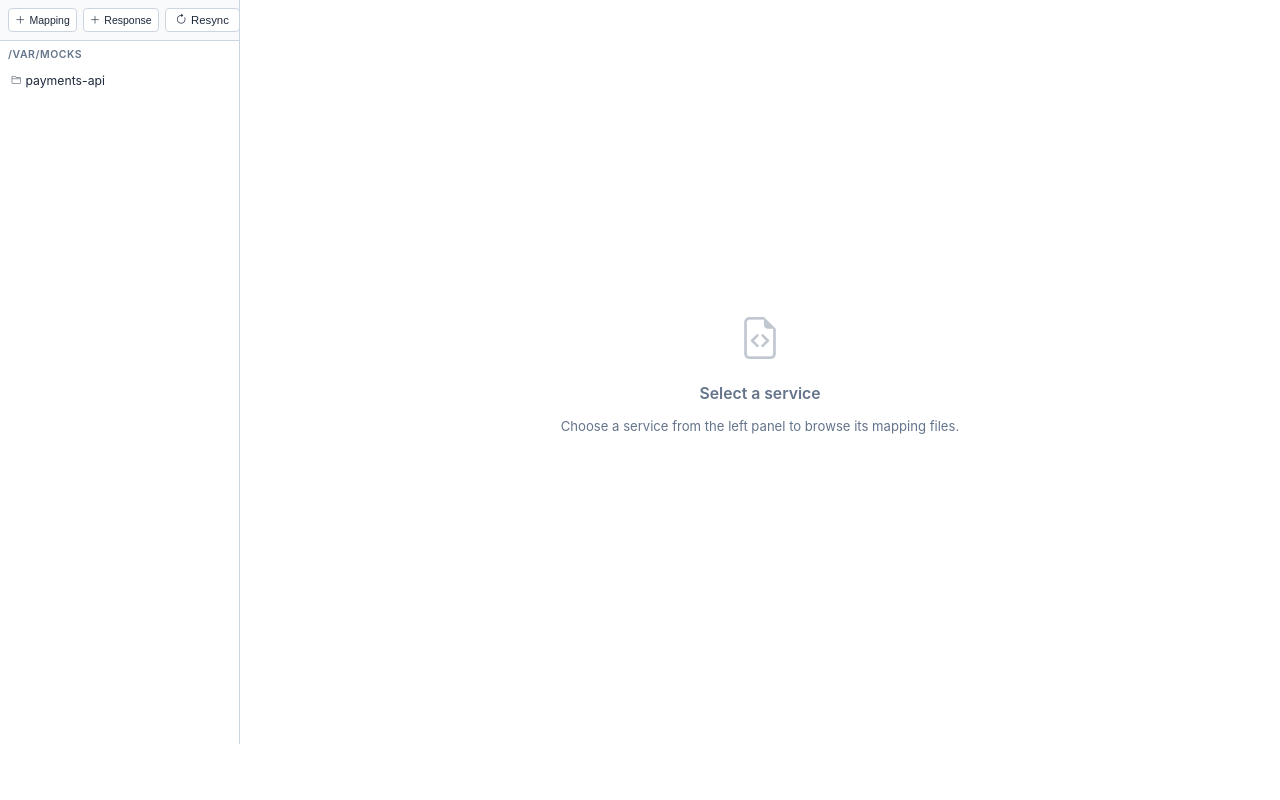
Test: MappingsPage — createFileMutation error handling › non-ApiError on POST shows generic error toast
# Select service and open modal
Click the text "payments-api" at coordinates (65, 80), box [25,73,105,88]
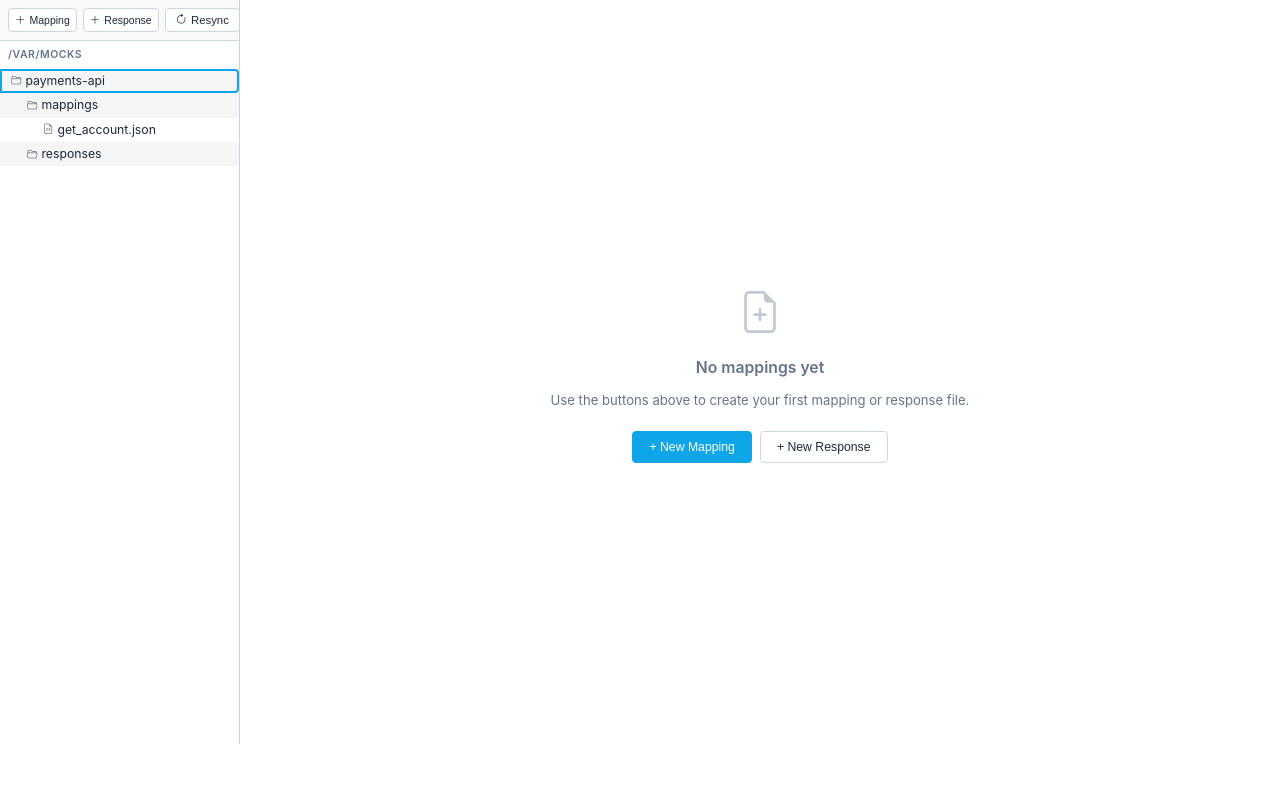
Click the button with test id "mappings-btn-new-mapping" at coordinates (42, 20), box [8,8,77,32]
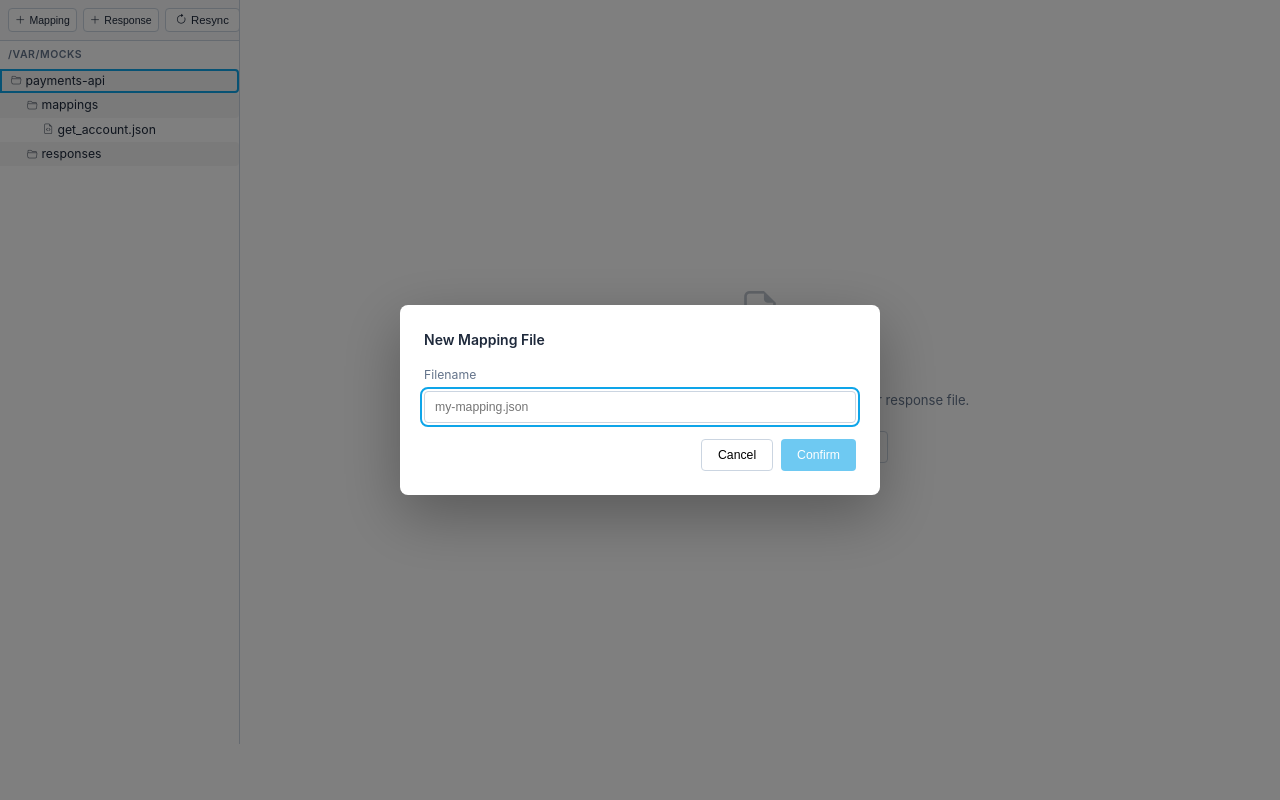
Expected: the dialog with test id "mappings-modal-file-name" is shown
Type "new-file.json" into the field with test id "mappings-input-filename" at coordinates (640, 407), box [424,391,856,423]
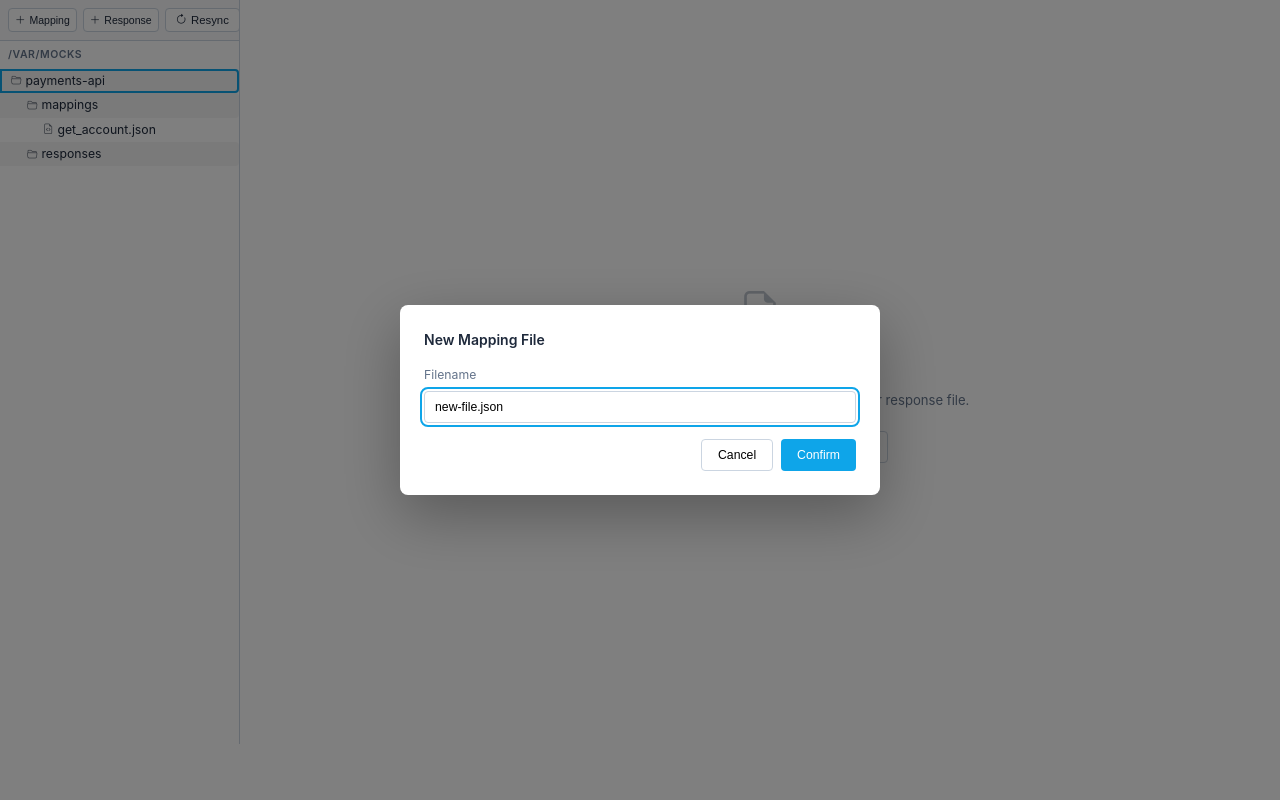
Click the button "Confirm" at coordinates (819, 455), box [781,439,856,471]
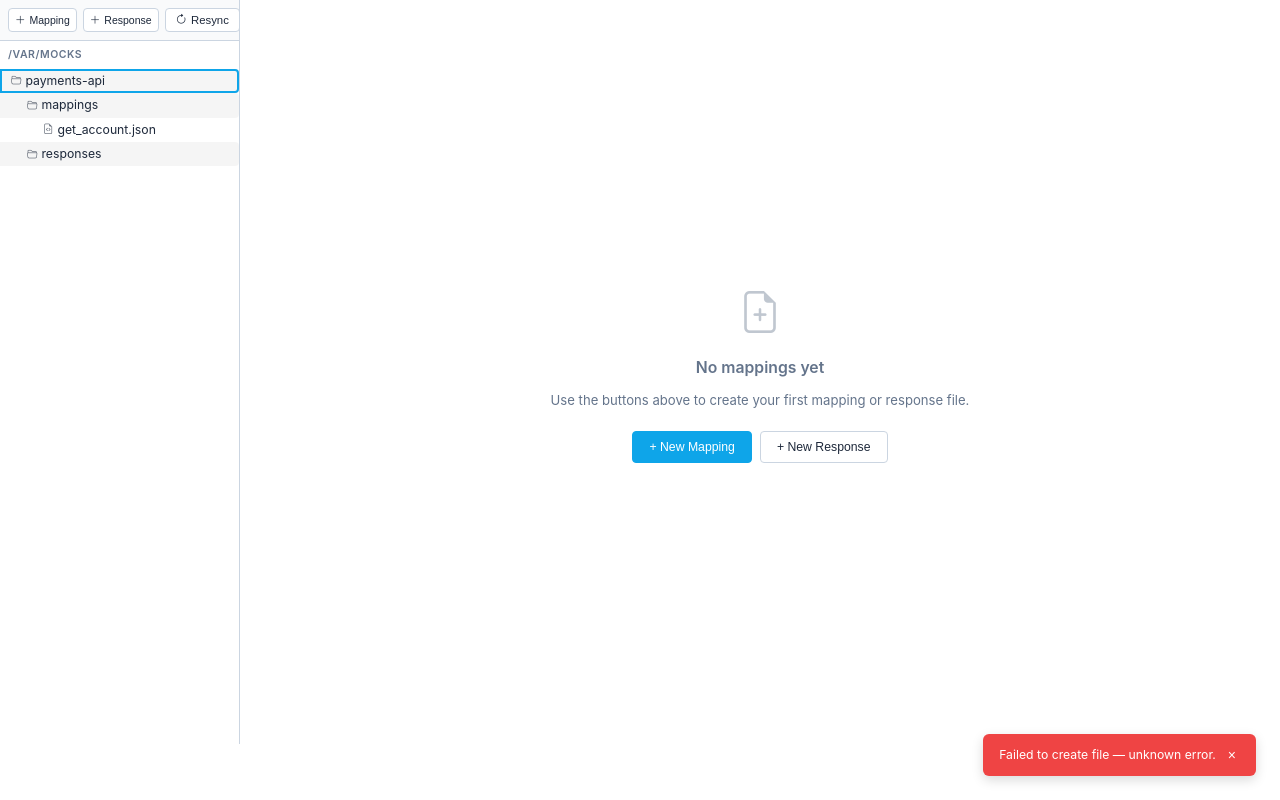
Expected: the message "Failed to create file — unknown error. ×" is shown, [983,734,1256,776]
